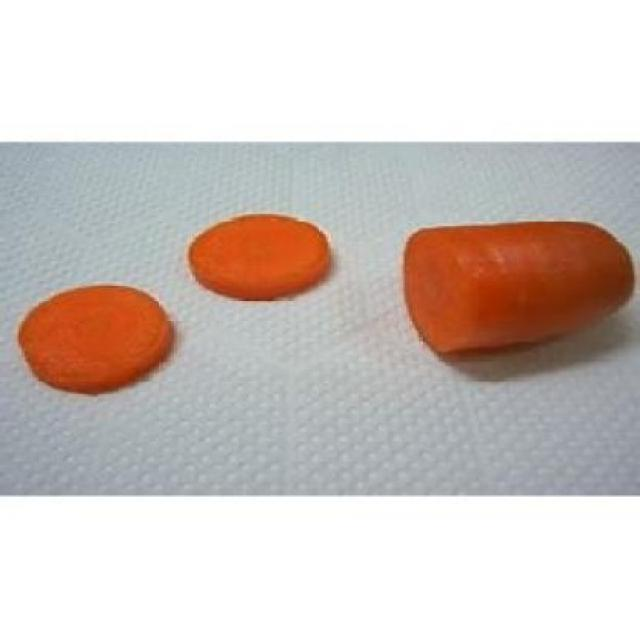carrot: (388, 207, 639, 370)
